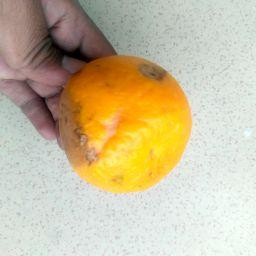Unripe: (57, 56, 192, 190)
